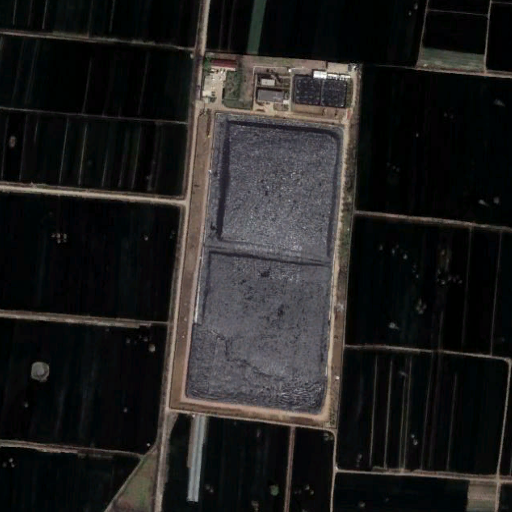lf: (183, 110, 351, 424)
